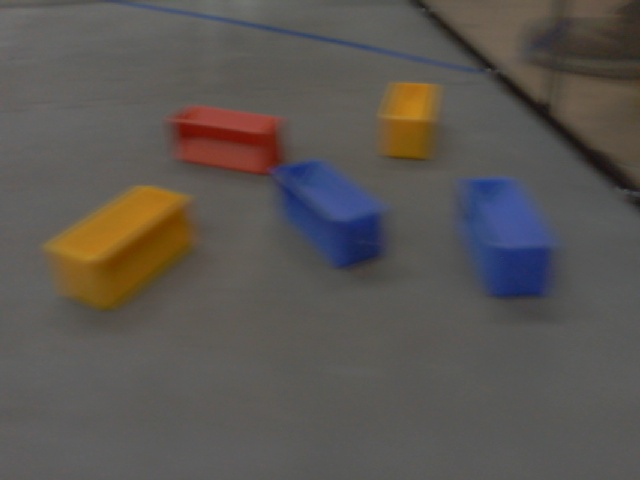BlueSample: (450, 172, 556, 299), (275, 158, 389, 267)
RedSample: (165, 102, 285, 176)
YellowSample: (44, 185, 196, 314), (374, 76, 441, 164)
